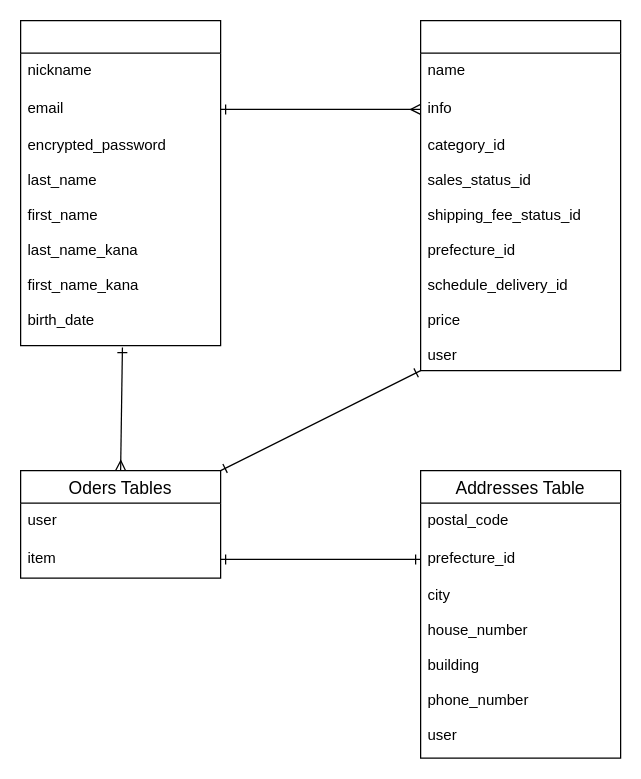
This 641x779 diagram has some shape labels left out. Here are the shapes that lost their labels. From the top down, the box of each, then its label:
(19, 19, 221, 346): Users Table
(419, 19, 621, 371): Items Table
